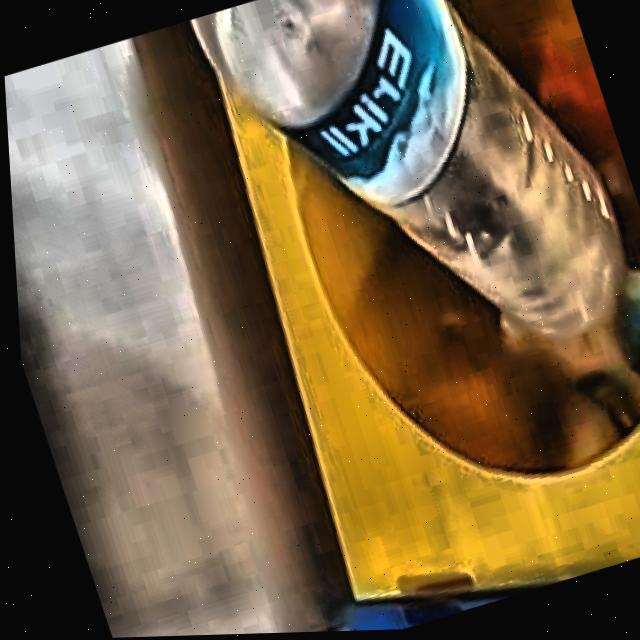plastic: (191, 0, 618, 335)
